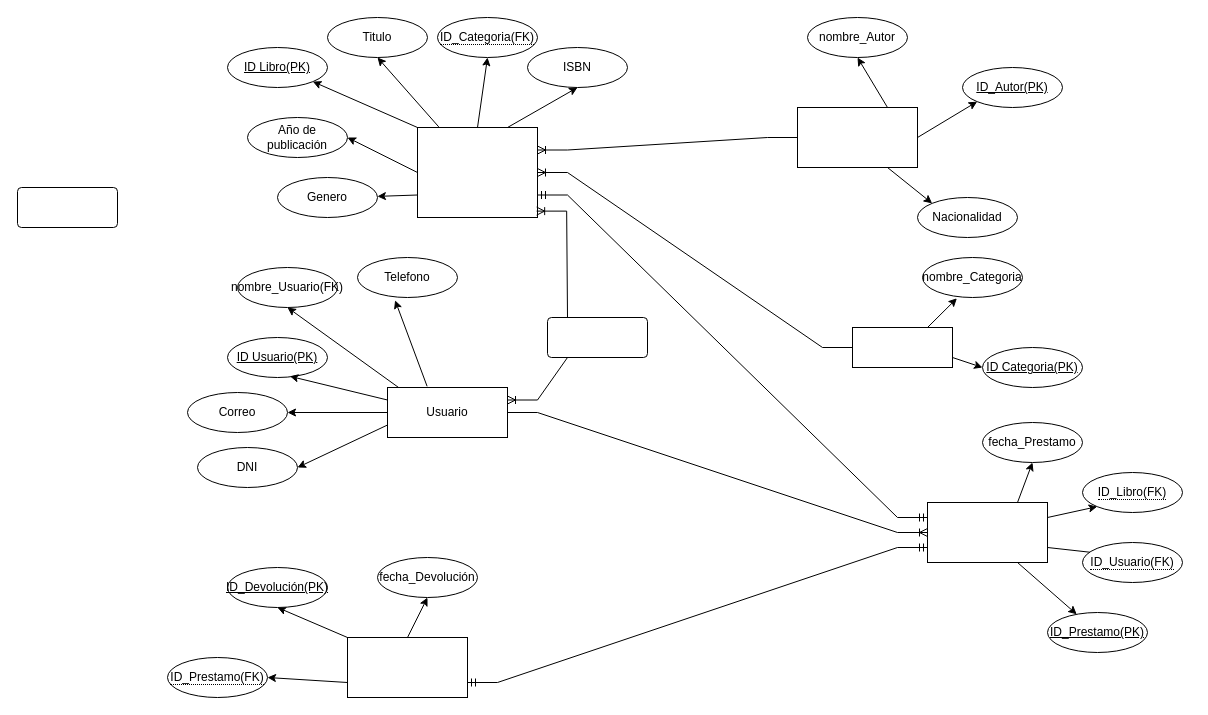
This 1208x715 diagram has some shape labels left out. The shapes that lost their labels are listed below. From the top down, each one's box as (x1, y1, x2, y2) in pixels, then its label:
(796, 106, 918, 168): Autor
(416, 126, 538, 218): Libro
(16, 186, 118, 228): Entity
(546, 316, 648, 358): Libro_Usuario
(852, 326, 952, 368): Categoria
(926, 502, 1048, 562): Prestamo
(346, 636, 468, 698): Devolución
